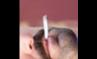Cigarette: (42, 14, 48, 38)
